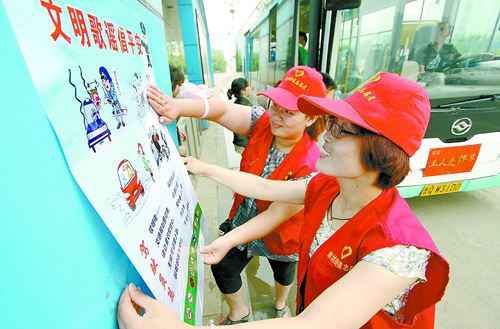bill: (4, 2, 206, 329), (424, 146, 481, 176)
